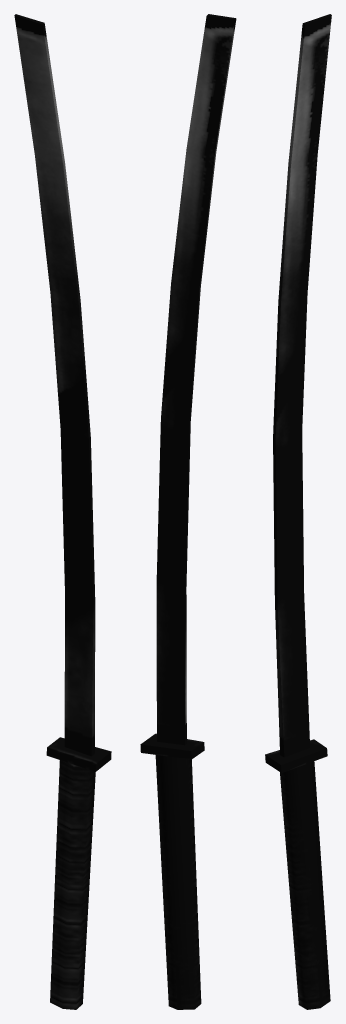
File: Left_hand_Sword.fbx
3 views of the same model, side by side, from view 1: azimuth 30°, elevation 25°; view 2: azimuth 210°, elevation 25°; view 3: azimuth 270°, elevation 25° (orthographic). The views are drawn at different scales.
Parts seen in each view (by area): view 1: Left_hand_Sword; view 2: Left_hand_Sword; view 3: Left_hand_Sword.
Part boxes in pixels (x1,y1,x2,y2): Left_hand_Sword: (14,14,111,1009); Left_hand_Sword: (140,14,236,1009); Left_hand_Sword: (265,14,331,1009).
Size of the model in its own units: 7.78 by 103 by 6.43.
